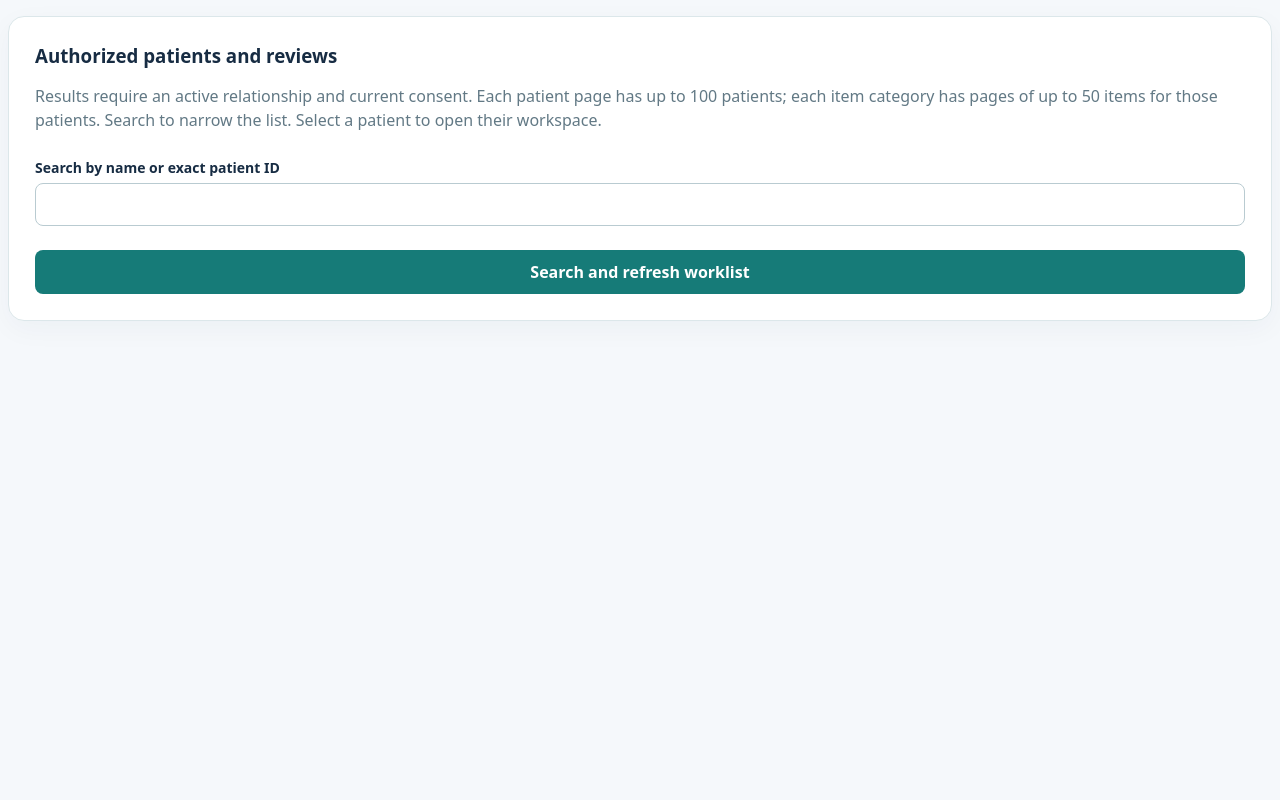
Test: pages patients using the submitted search and replaces page-specific reviews
Type "Synthetic" into the field labelled "Search by name or exact patient ID" at (640, 204), box [35,183,1245,226]
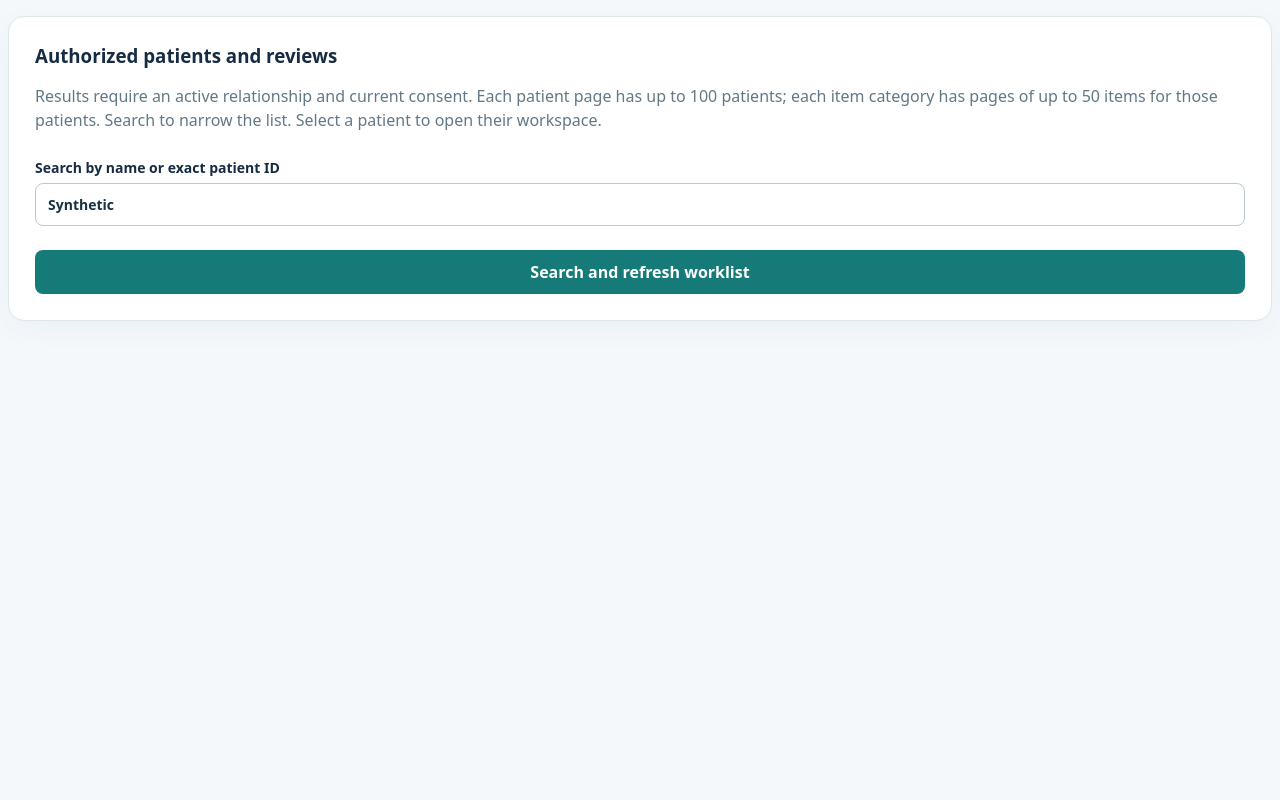
Click the button "Search and refresh worklist" at (640, 272), box [35,250,1245,294]
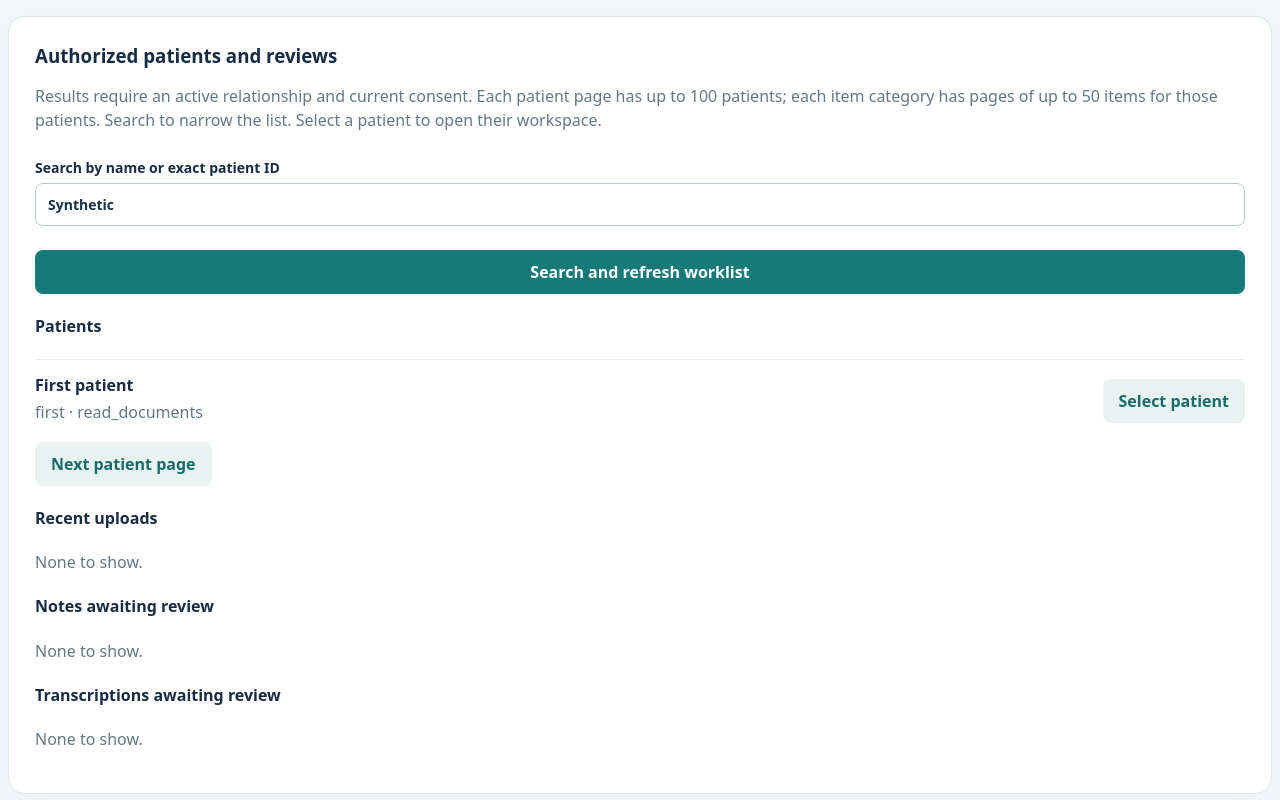
Result: the text "First patient" is shown at [35,374,134,396]
Replace the text in the field labelled "Search by name or exact patient ID" with "Unsaved" at (640, 204), box [35,183,1245,226]
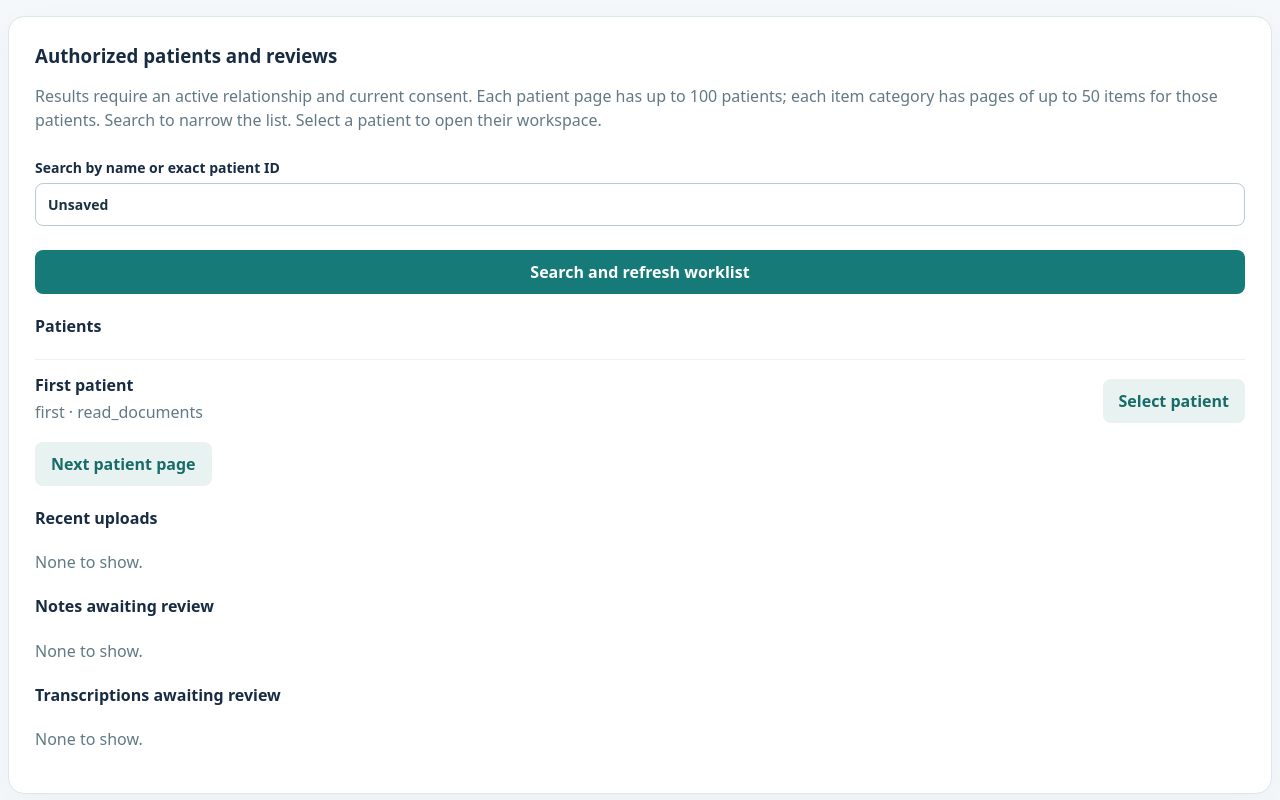
Click the button "Next patient page" at (123, 464), box [35,442,212,486]
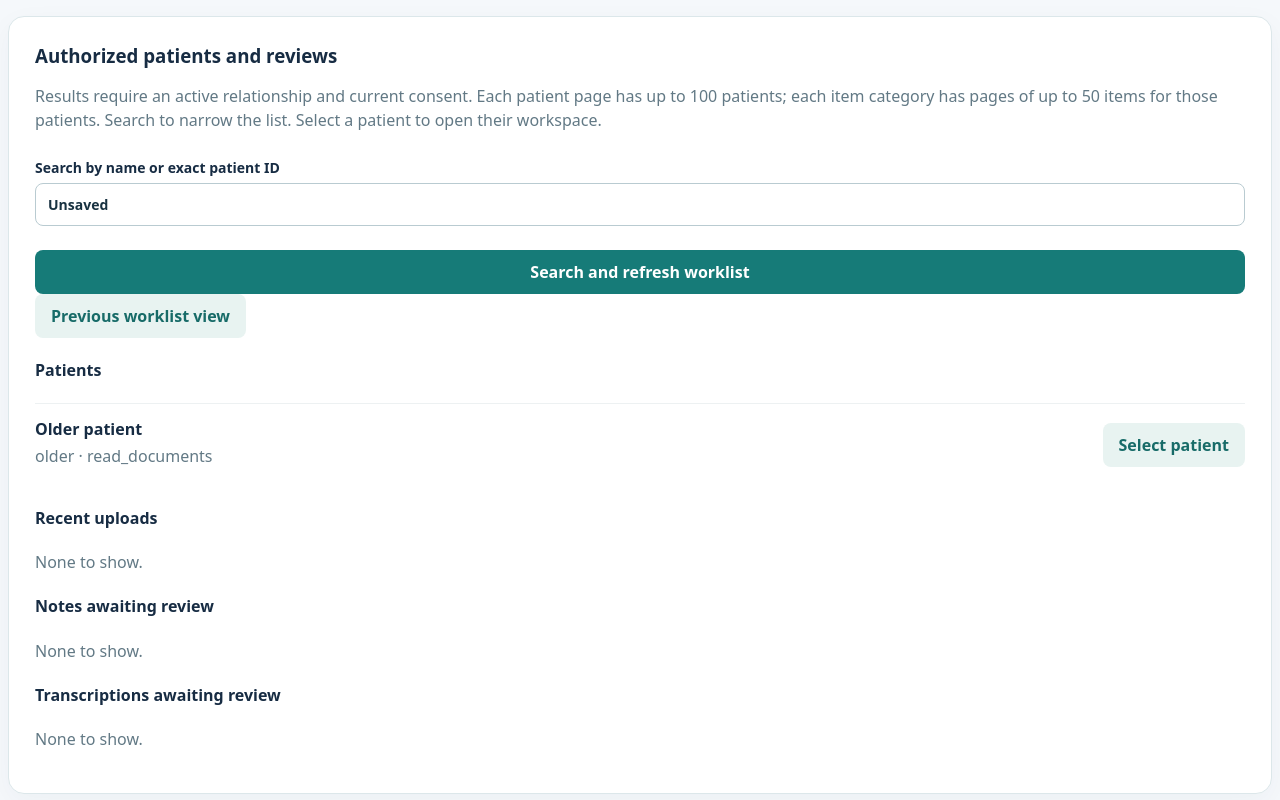
Result: the text "Older patient" is shown at [35,418,142,440]
Result: the text "First patient" is gone
Result: the button "Next patient page" is gone
Click the button "Previous worklist view" at (141, 316), box [35,294,246,338]
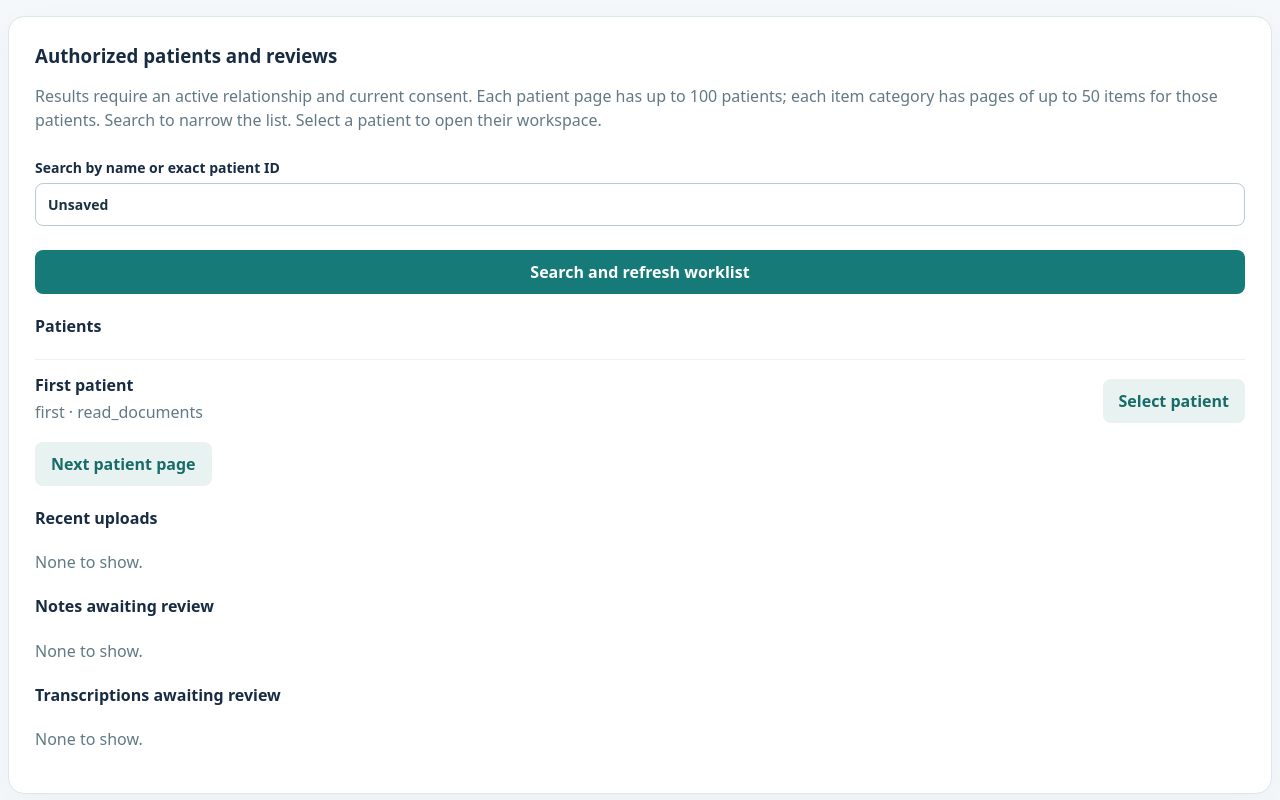
Result: the text "First patient" is shown at [35,374,134,396]
